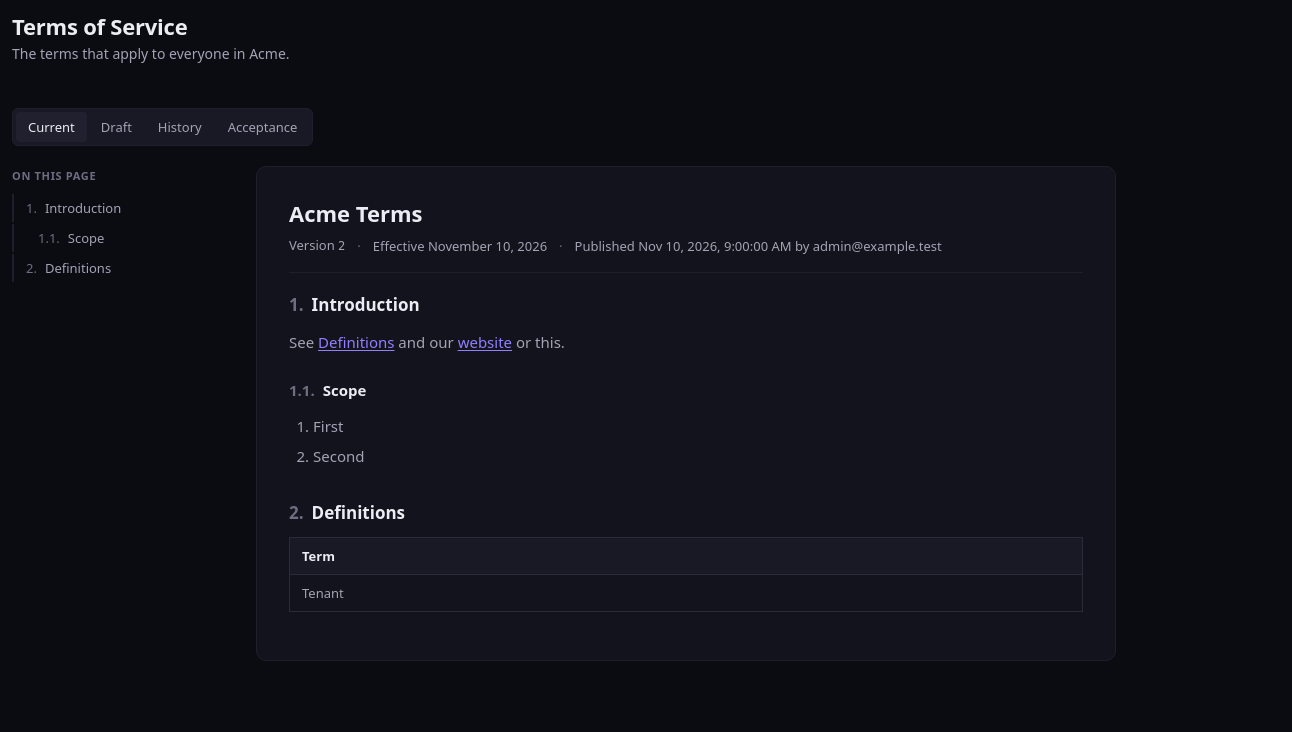
Test: Terms of Service page › the acceptance table is sorted by the server, column by column
The image size is (1292, 732).
Later steps or results of the test are not shown.
What coordinates should you click on to do the following:
click the tab "Acceptance"
I would click on:
 (262, 127)
Its box is [216,112,309,142].
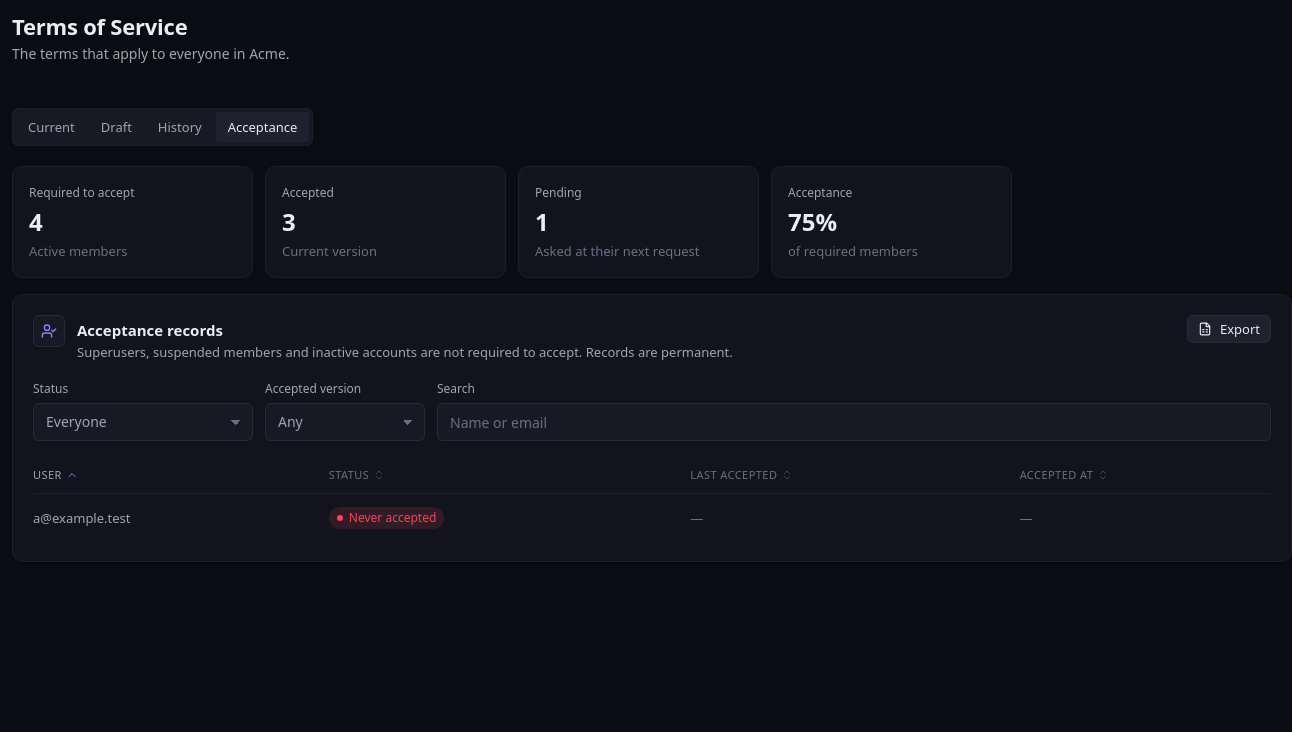
Expected: the table named "Terms acceptance" is shown, [33,457,1271,541]
